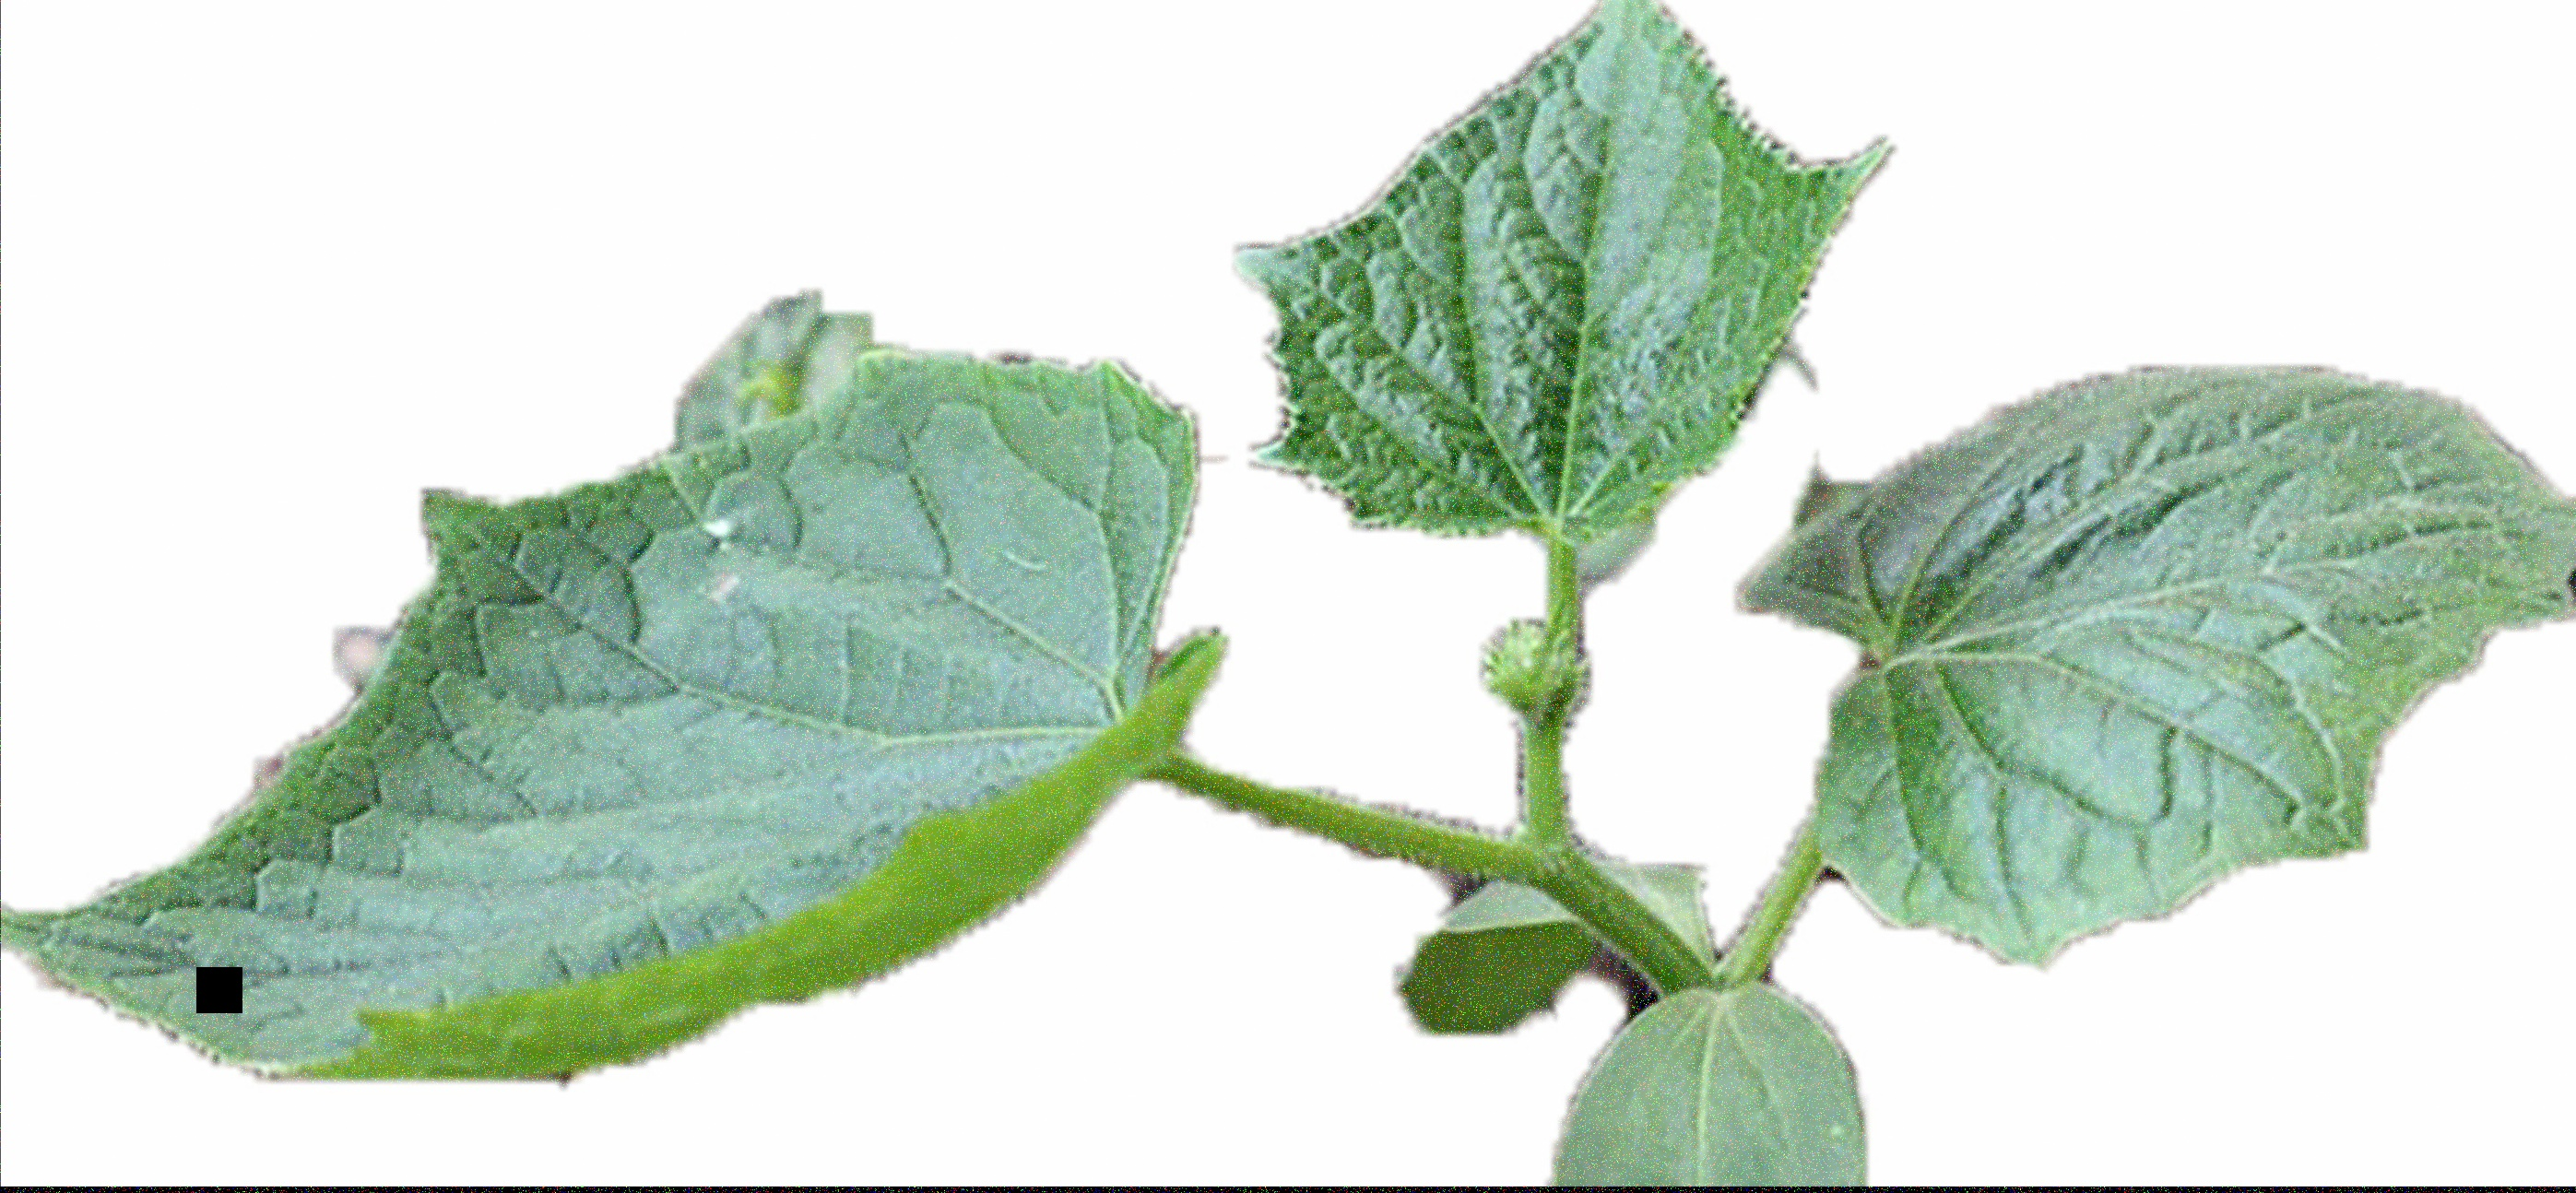cucumber_plant: (5, 26, 2573, 1070)
